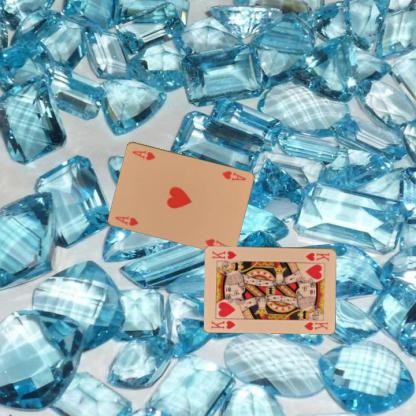Ah: (219, 168, 247, 183), (112, 214, 139, 227)
Kh: (209, 318, 237, 330), (303, 250, 330, 262)
